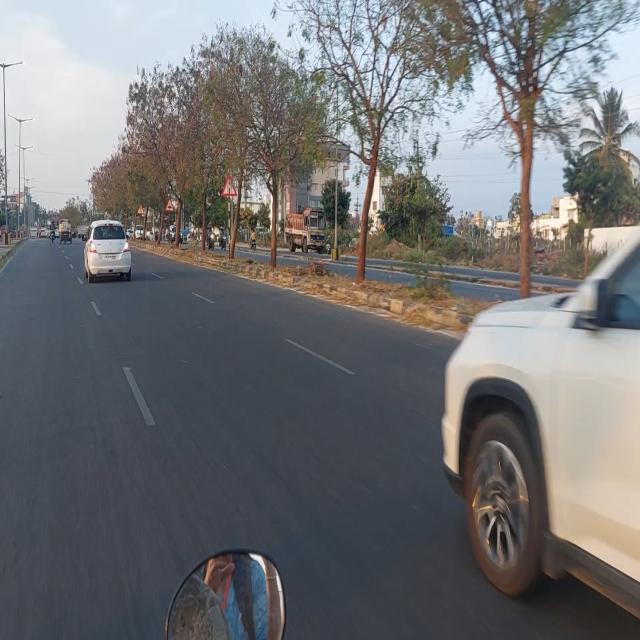bien_cam: (219, 169, 237, 199), (163, 193, 174, 213), (136, 202, 144, 215)
